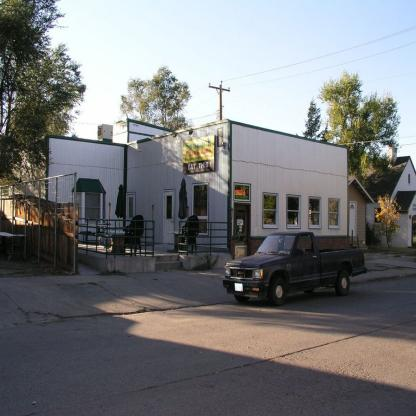Car: (227, 231, 356, 307)
